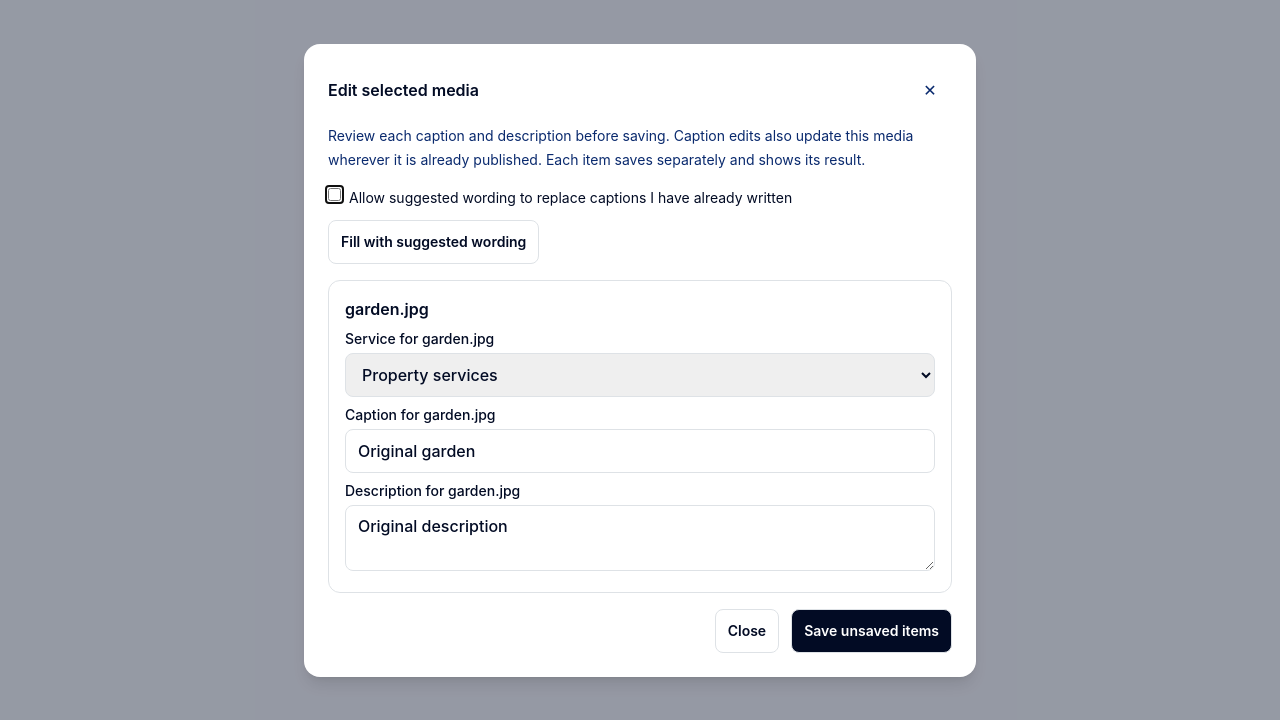
bulk media edits › supports property-services metadata and neutral caption suggestions
The image size is (1280, 720).
Expected: the dropdown labelled "Service for garden.jpg" shows "Property services", [345,352,935,396]
Click the checkbox at (334, 194), box [328,188,341,200]
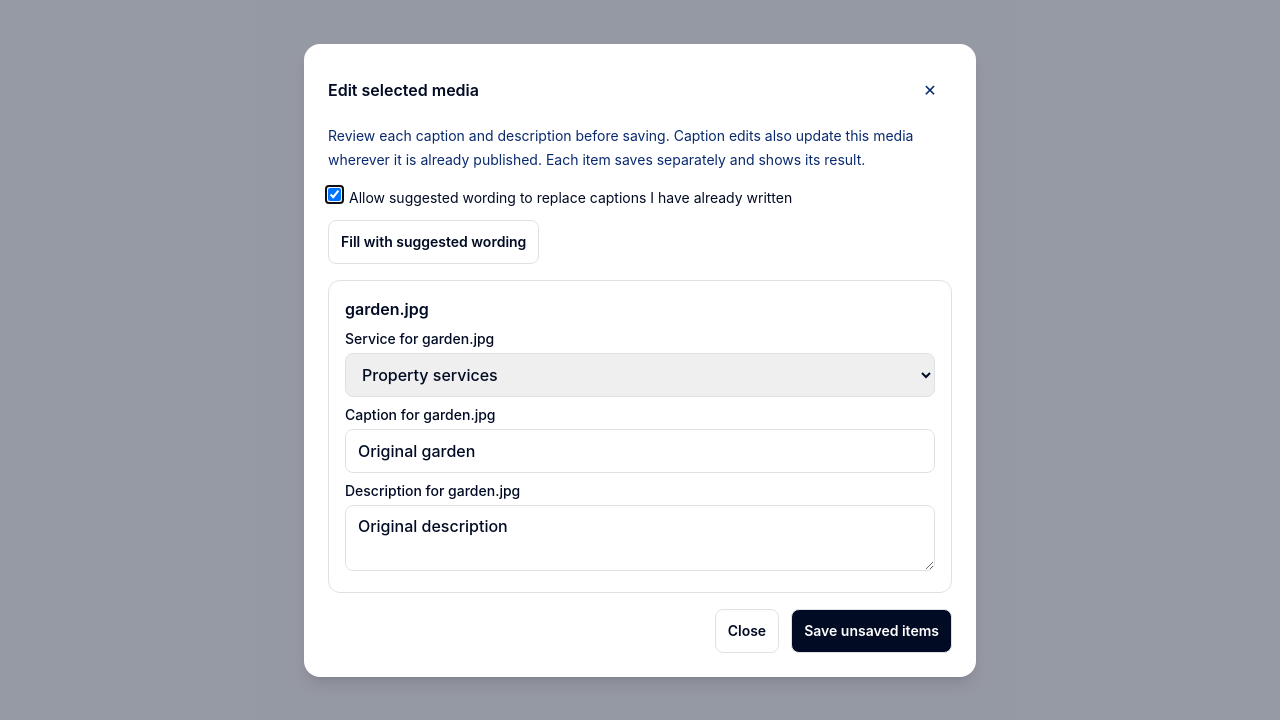
Click the button "Fill with suggested wording" at (434, 242), box [328,220,539,264]
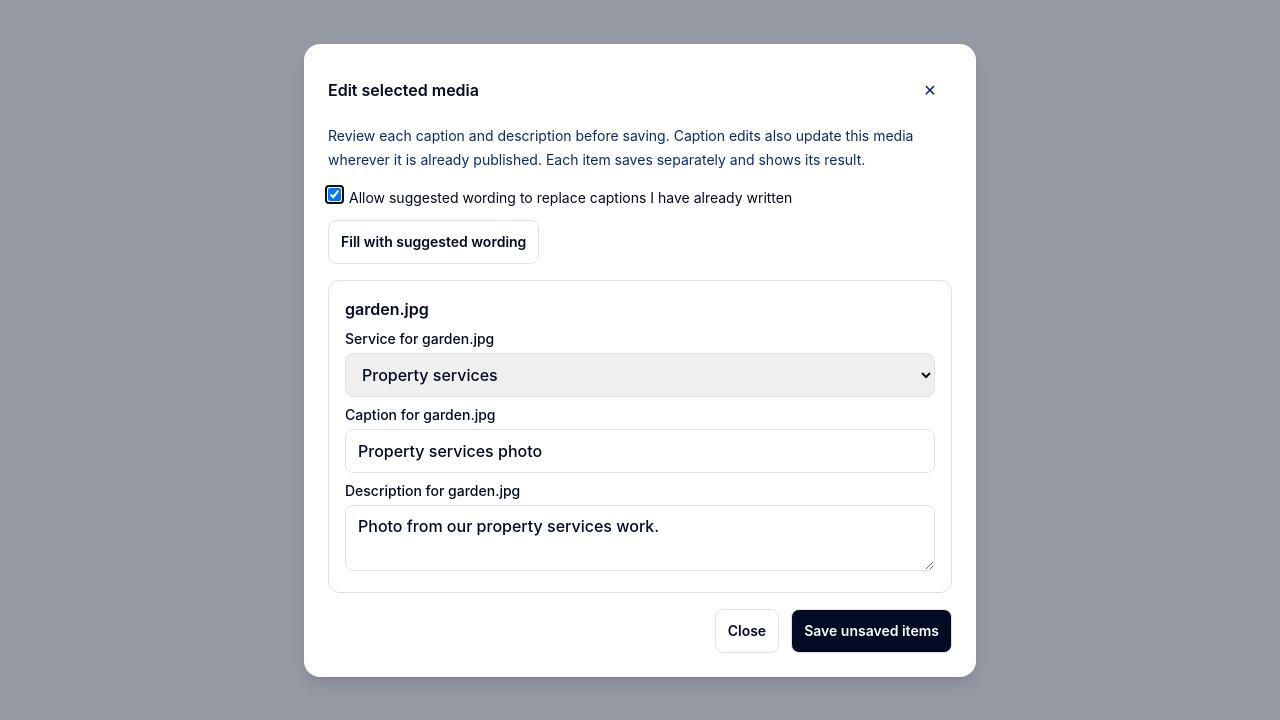
Now the field labelled "Caption for garden.jpg" holds "Property services photo", box [345,428,935,472]
Click the button "Save unsaved items" at (872, 630), box [791,608,952,652]
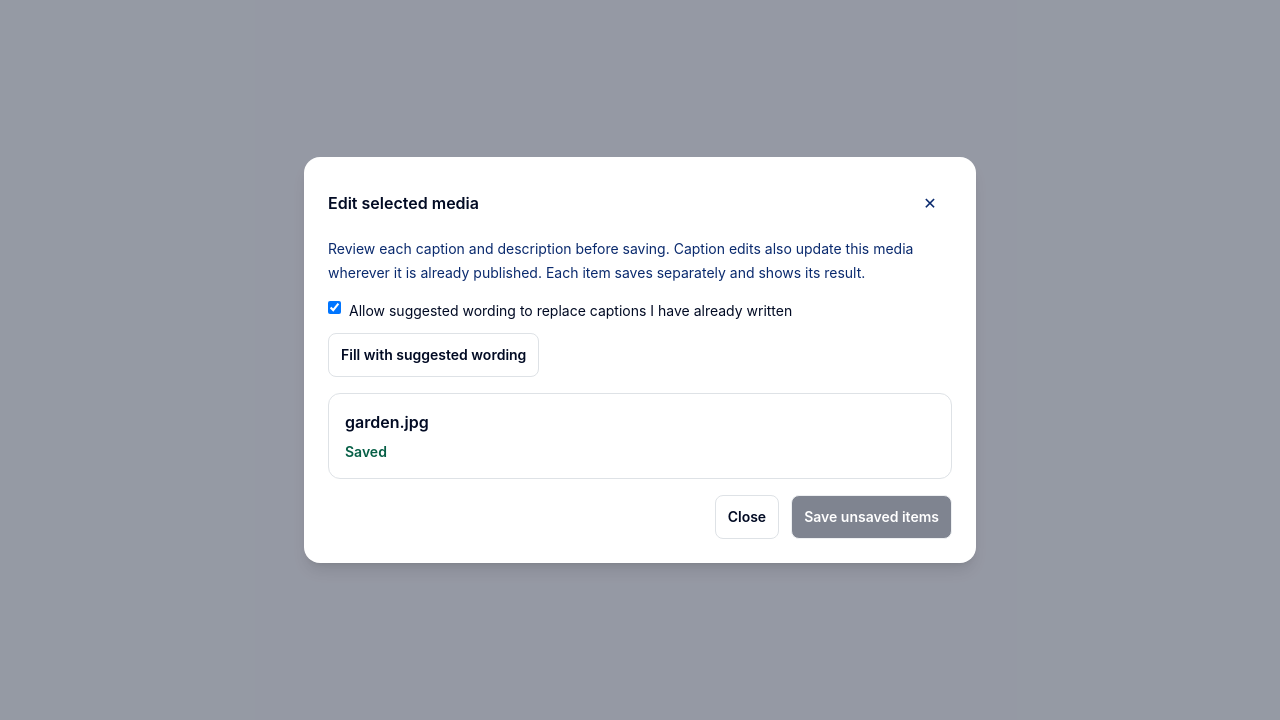
Now the text "Saved" is shown, box [345,443,387,460]
